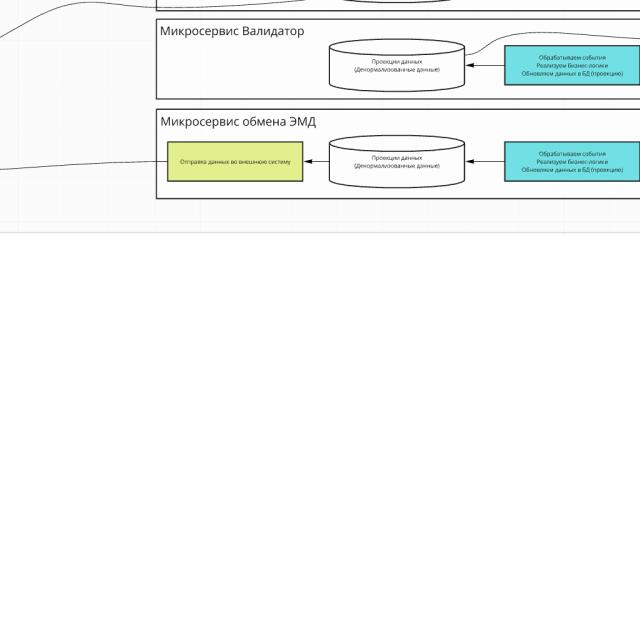arrow: (466, 158, 505, 165), (466, 62, 504, 68), (304, 158, 329, 165)
rectangle: (328, 46, 466, 92), (329, 142, 466, 188), (168, 142, 303, 182), (505, 45, 639, 85), (505, 142, 639, 181)
text_region: (160, 115, 317, 128), (160, 25, 305, 38)
